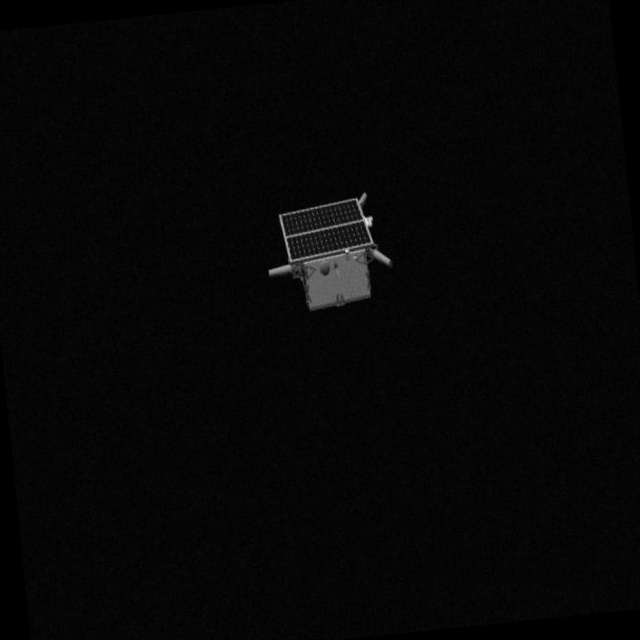medium_debris: (263, 184, 407, 317)
